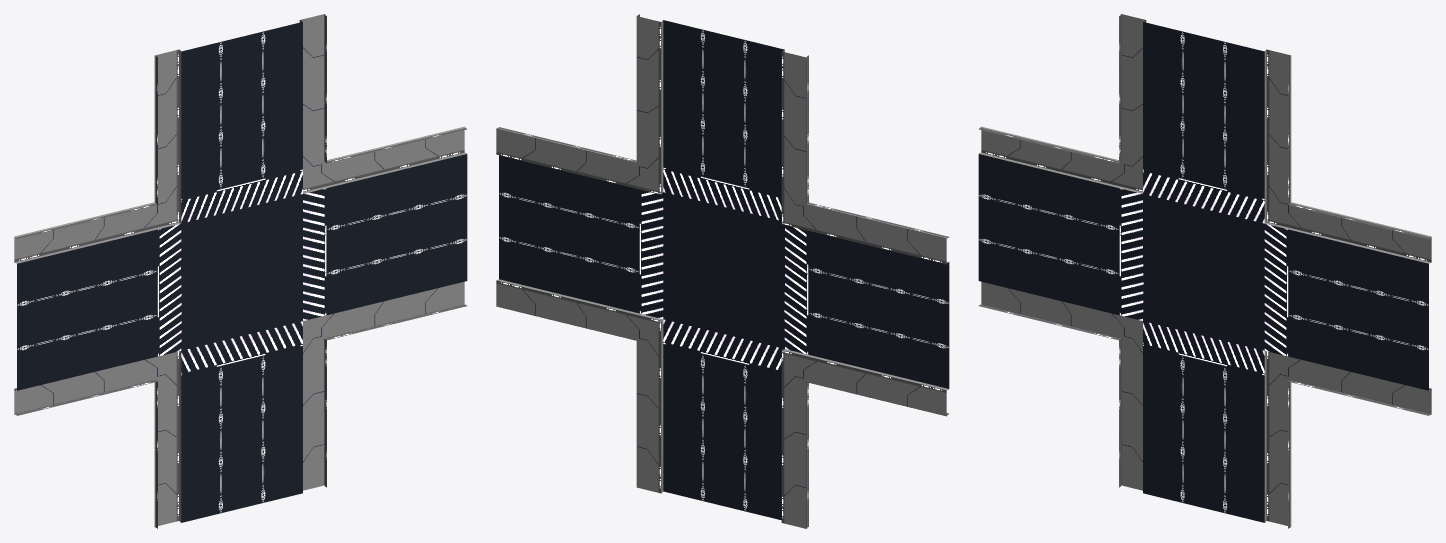
File: SM_M_Xroad.fbx
3 views of the same model, side by side, from view 1: azimuth 30°, elevation 25°; view 2: azimuth 150°, elevation 25°; view 3: azimuth 330°, elevation 25° (orthographic).
Visible parts, largest first — view 1: SM_M_Xroad; view 2: SM_M_Xroad; view 3: SM_M_Xroad.
Part boxes in pixels (x1,y1,x2,y2): SM_M_Xroad: [14, 14, 467, 528]; SM_M_Xroad: [496, 14, 949, 528]; SM_M_Xroad: [978, 14, 1431, 528].
Size of the model in its own units: 10435 by 10435 by 119.
